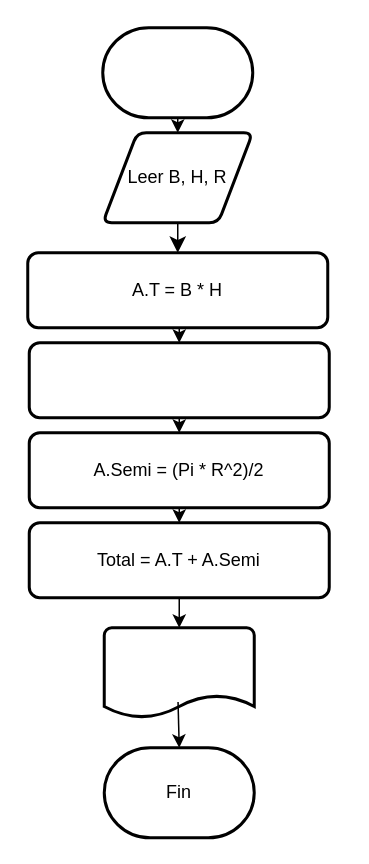
Some shapes in this 369 by 864 pixel diagram are drawn without their labels. Each missing label, with the centre of its shape:
"Escribir Total" goes at pixel 178 672.
"Inicio" goes at pixel 177 72.
"Pi = 3.14" goes at pixel 178 379.
